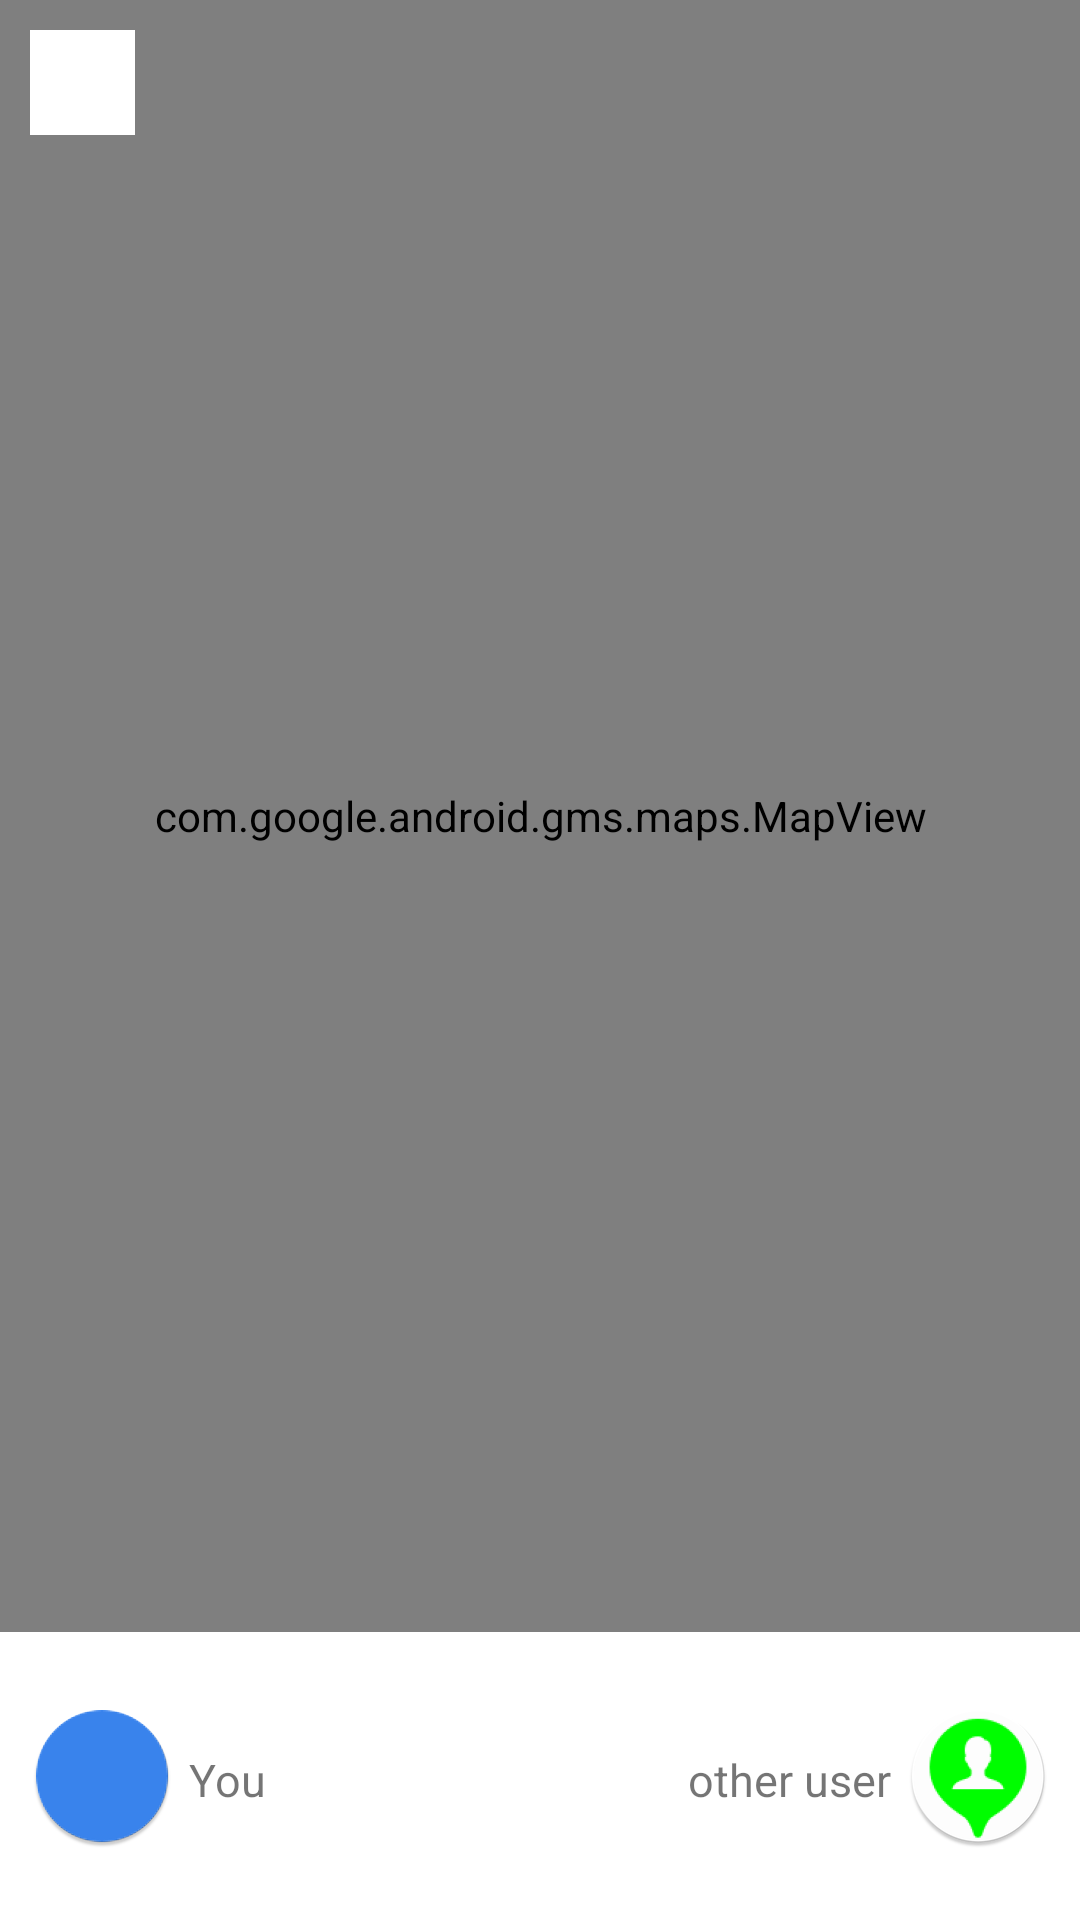

Named icons in this screenshot (1080px x 1920px) and their centers, point (x, y):
location: point (979, 1781)
